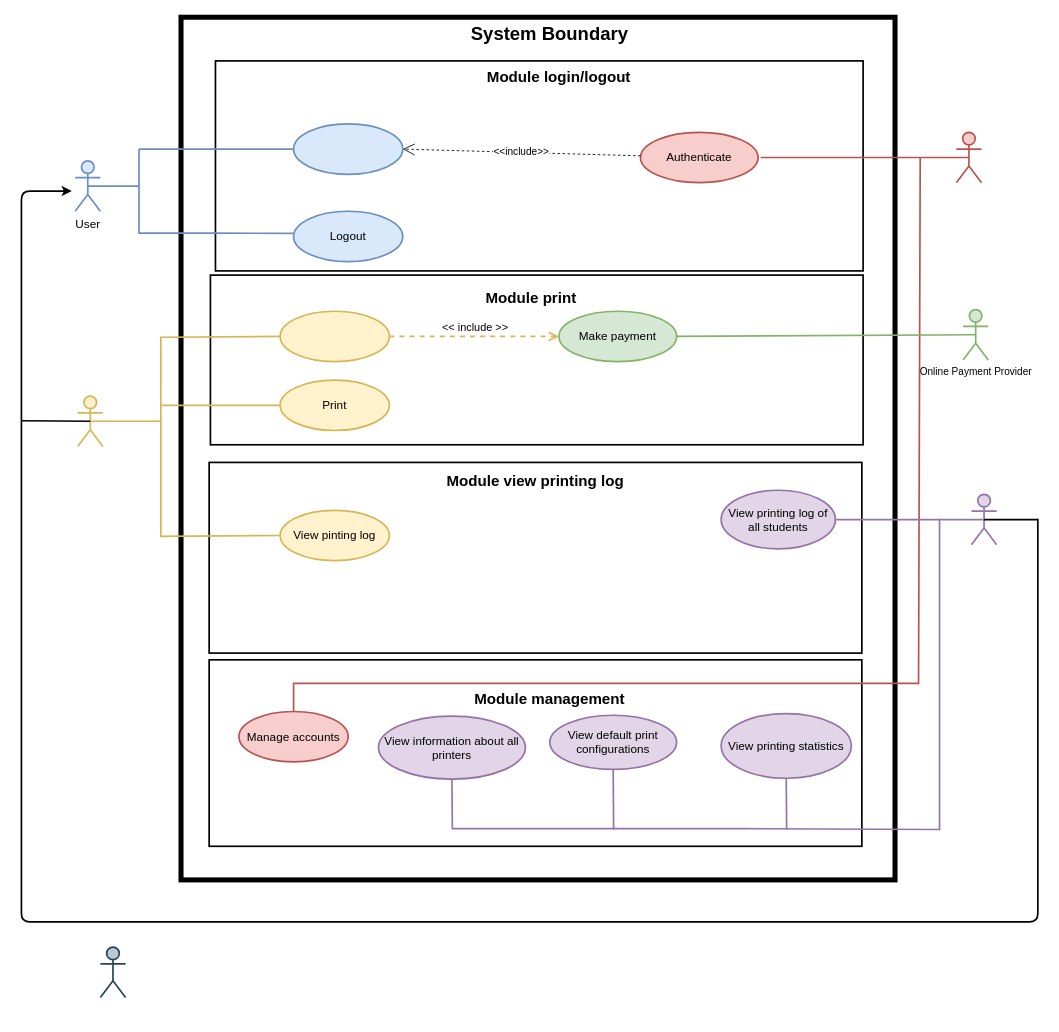
This 1059x1032 diagram has some shape labels left out. Here are the shapes that lost their labels. From the top down, the centre of each, then its label:
At pixel 347 149: "Login".
At pixel 968 157: "HCMUT_SSO".
At pixel 334 336: "View page balance".
At pixel 89 421: "Students".
At pixel 983 519: "SPSO".
At pixel 112 972: "Print System".
